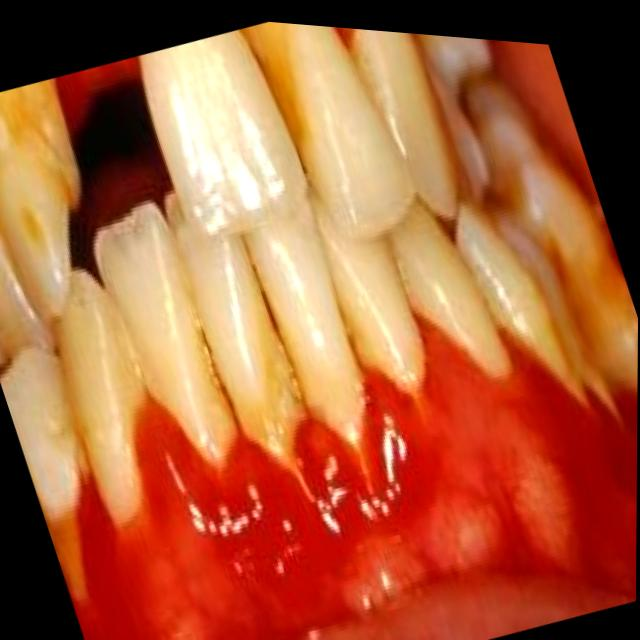gingivitis: (83, 325, 629, 640)
